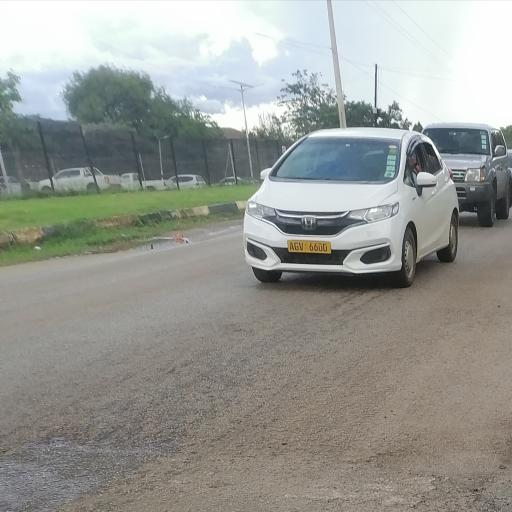number-plates: (287, 237, 331, 254)
